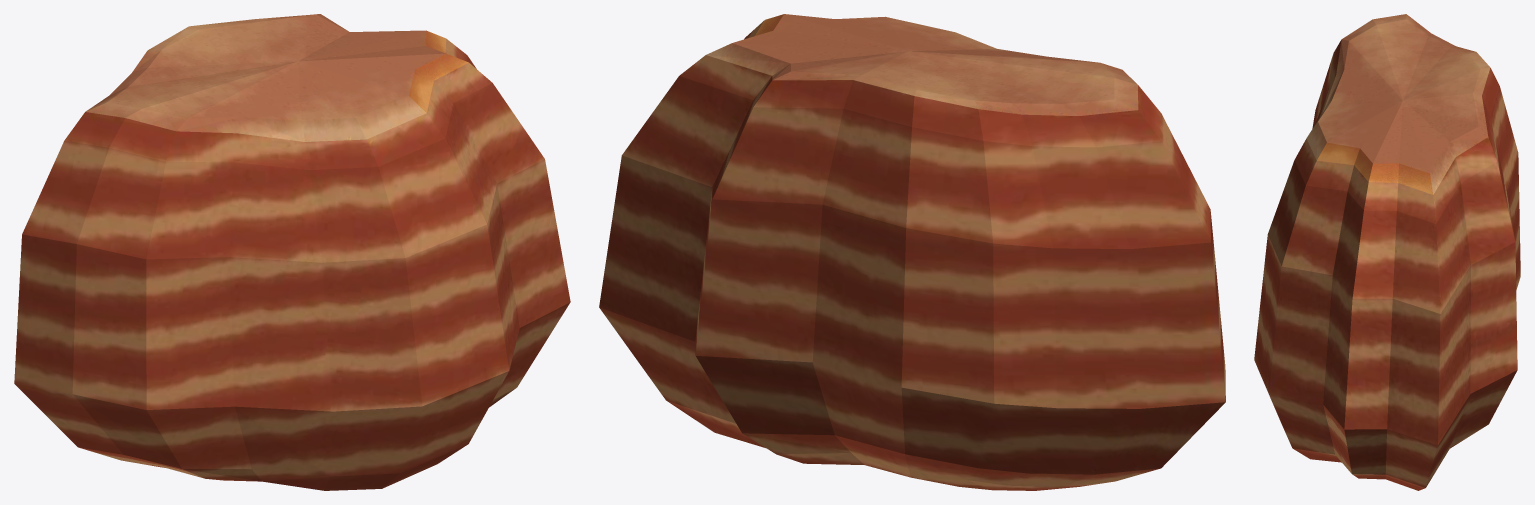
The picture shows the model from 3 angles, left to right: view 1: azimuth 30°, elevation 25°; view 2: azimuth 150°, elevation 25°; view 3: azimuth 270°, elevation 25°; orthographic projection. The views are drawn at different scales.
Parts seen in each view (by area): view 1: Canyon_sandstone_layered_fracture, Faint_sandstone_powder, Warm_sunset_edge_tint; view 2: Canyon_sandstone_layered_fracture, Faint_sandstone_powder; view 3: Canyon_sandstone_layered_fracture, Faint_sandstone_powder, Warm_sunset_edge_tint.
Boxes of the visible parts, x1,y1,x2,y2 form: Canyon_sandstone_layered_fracture: (14,39,570,490); Faint_sandstone_powder: (85,14,445,141); Warm_sunset_edge_tint: (409,30,468,112); Canyon_sandstone_layered_fracture: (599,21,1225,490); Faint_sandstone_powder: (706,14,1138,115); Canyon_sandstone_layered_fracture: (1254,40,1520,490); Faint_sandstone_powder: (1306,14,1490,194); Warm_sunset_edge_tint: (1317,142,1433,194).
Size of the model in its own units: 0.94 by 0.658 by 0.47.
3 materials, 3 textured.
